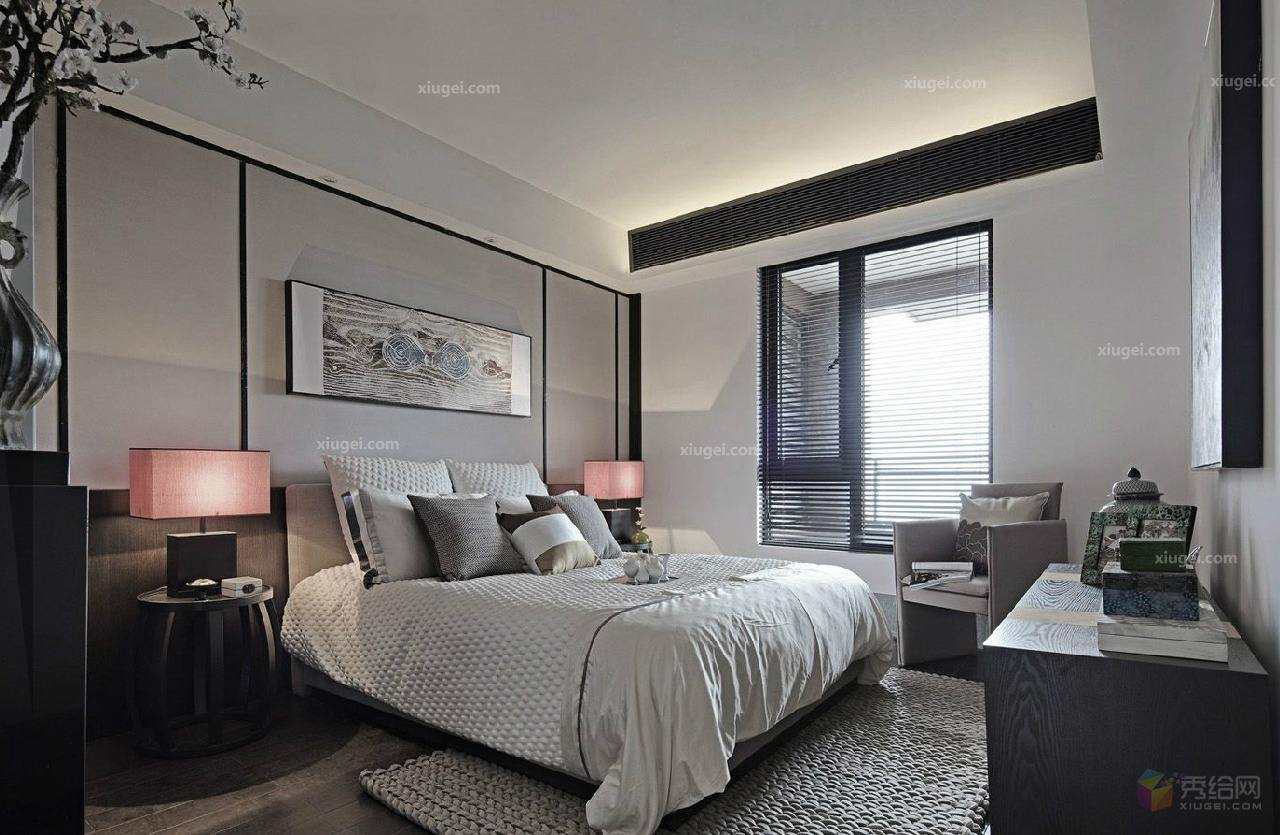床: (315, 544, 892, 796)
枕头: (329, 453, 607, 584), (951, 492, 1043, 583)
灯: (131, 445, 275, 600), (583, 459, 647, 545)
